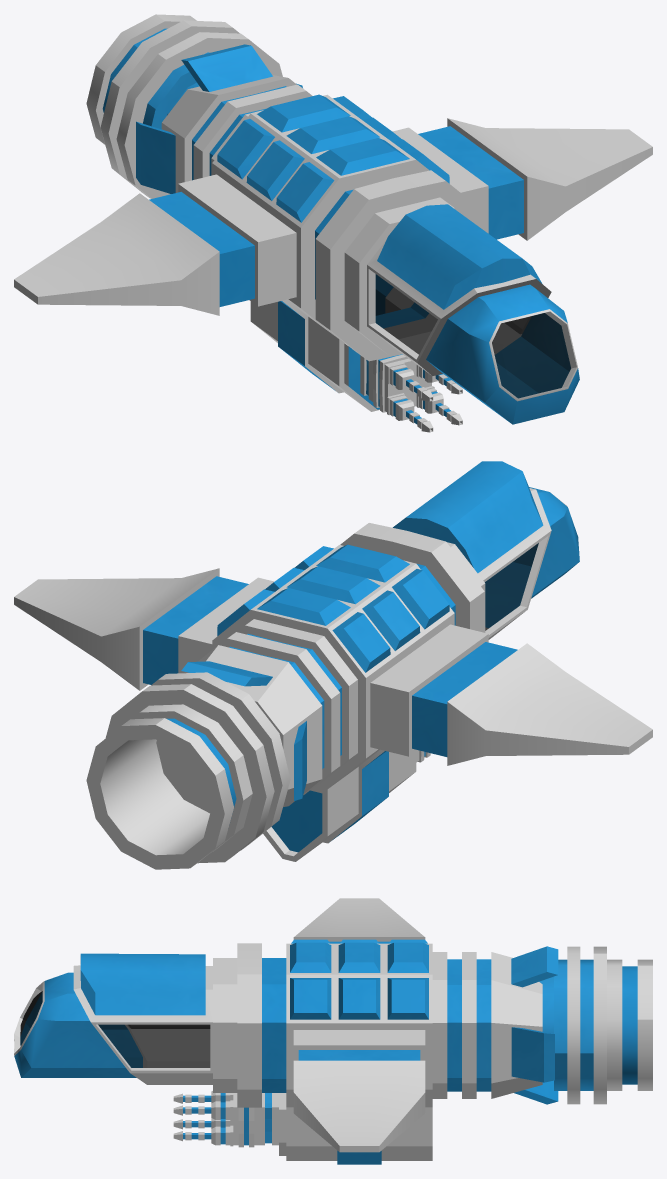
File: BAC.fbx
3 renders of one model, top to bottom at view 1: azimuth 30°, elevation 25°; view 2: azimuth 150°, elevation 25°; view 3: azimuth 270°, elevation 25°, orthographic. The views are drawn at different scales.
Parts seen in each view (by area): view 1: BAC; view 2: BAC; view 3: BAC.
Part boxes in pixels (<box>): BAC: <box>14,14,652,432</box>; BAC: <box>14,461,652,869</box>; BAC: <box>14,898,652,1164</box>.
Bounding box in the file's own units: 8 × 3.15 × 8.73.
